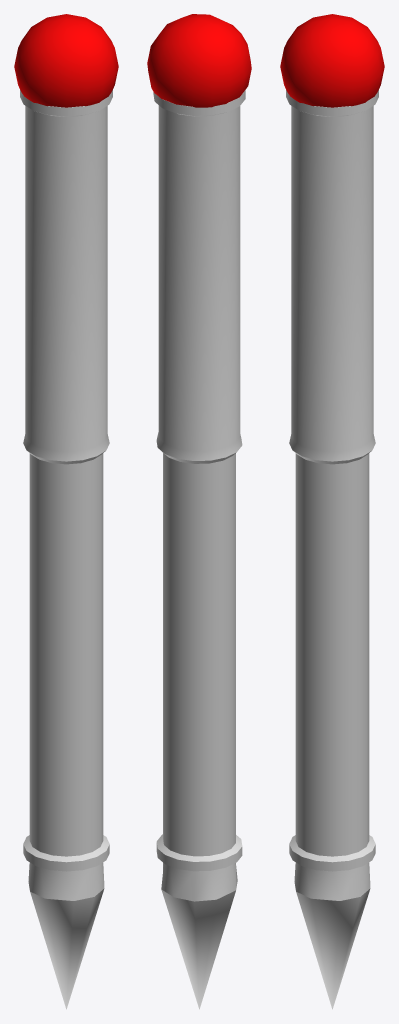
File: M_MarkerModelPC.fbx
3 views of the same model, side by side, from view 1: azimuth 90°, elevation 25°; view 2: azimuth 150°, elevation 25°; view 3: azimuth 270°, elevation 25° (orthographic).
Visible parts, largest first — view 1: Marker; view 2: Marker; view 3: Marker.
Boxes of the visible parts, x1,y1,x2,y2 form: Marker: (14, 14, 118, 1009); Marker: (147, 14, 251, 1009); Marker: (280, 14, 384, 1009).
Size of the model in its own units: 0.0196 by 0.2049 by 0.0196.
